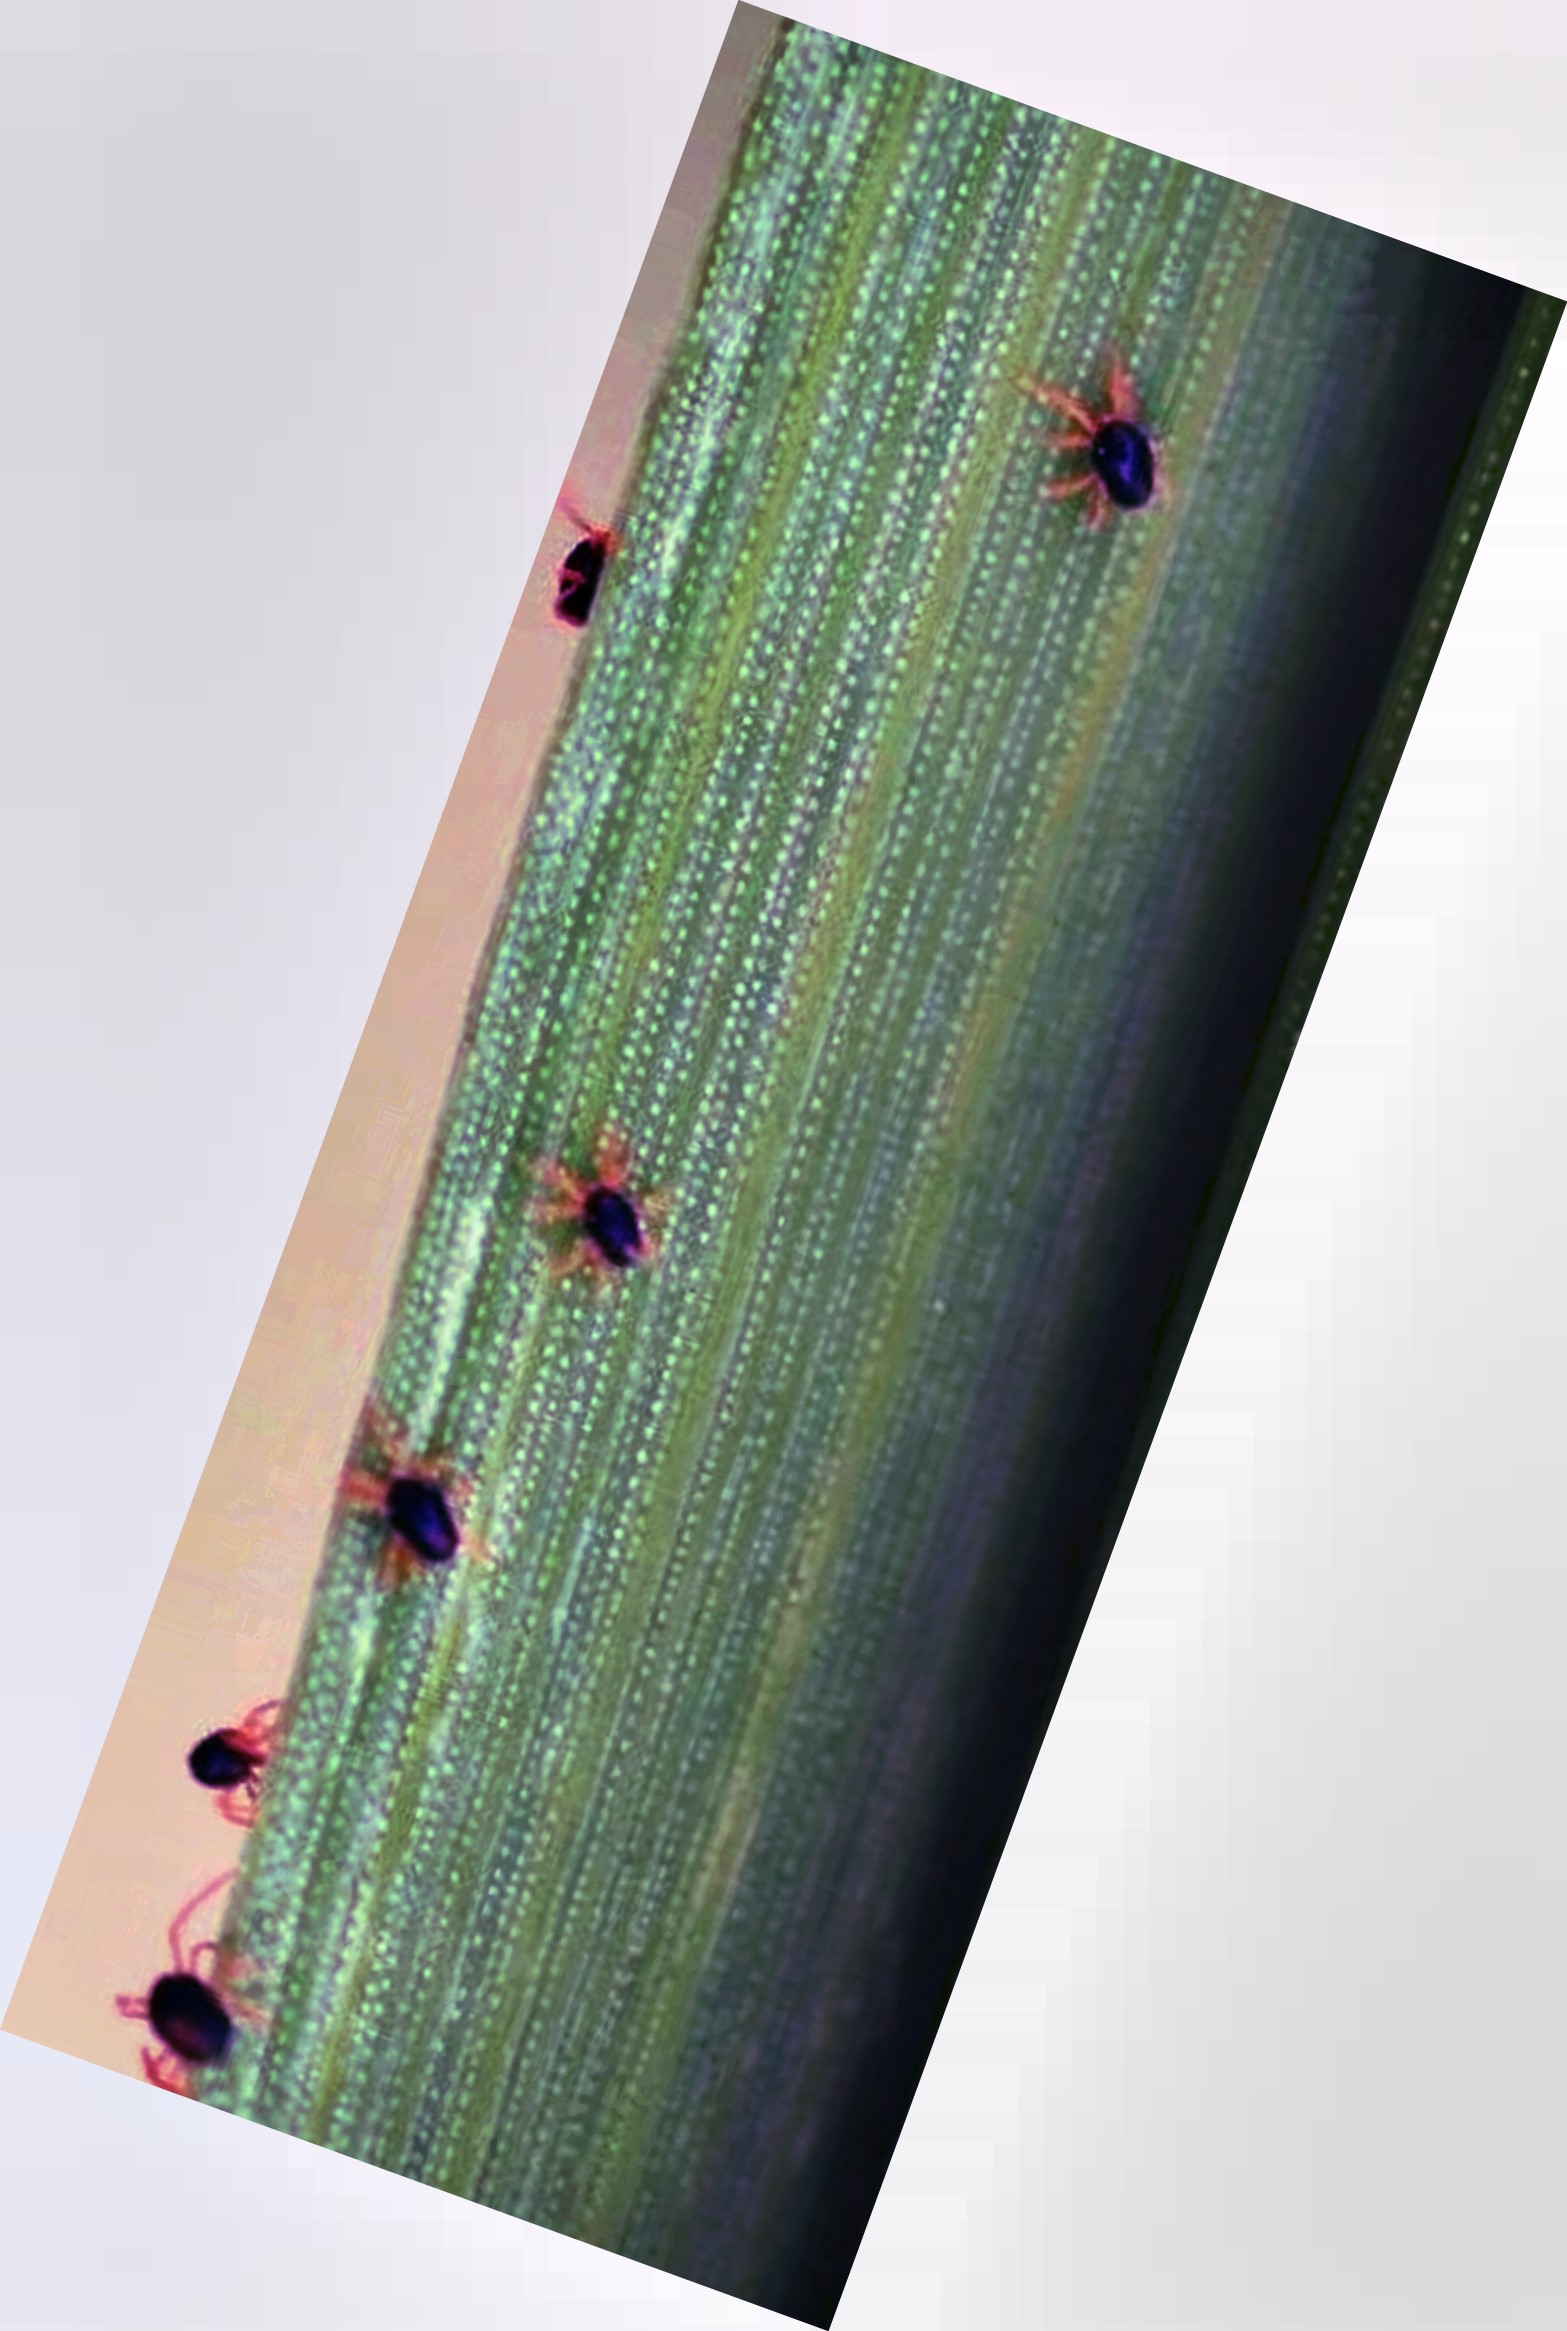Wheat Red Spider: (993, 343, 1219, 540)
